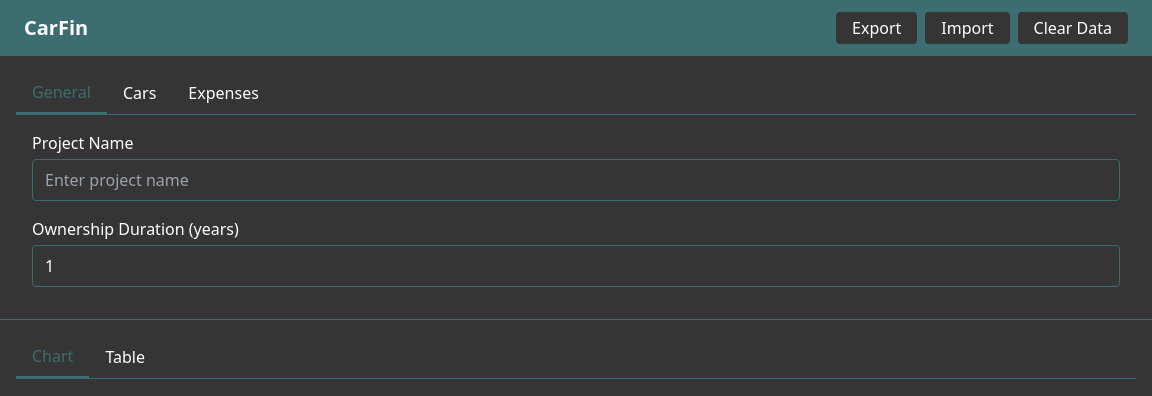
Test: typing project name updates navbar title
In the field labelled "Project Name": point(576, 180) left=32, top=159, right=1120, bottom=201, type "My Project"
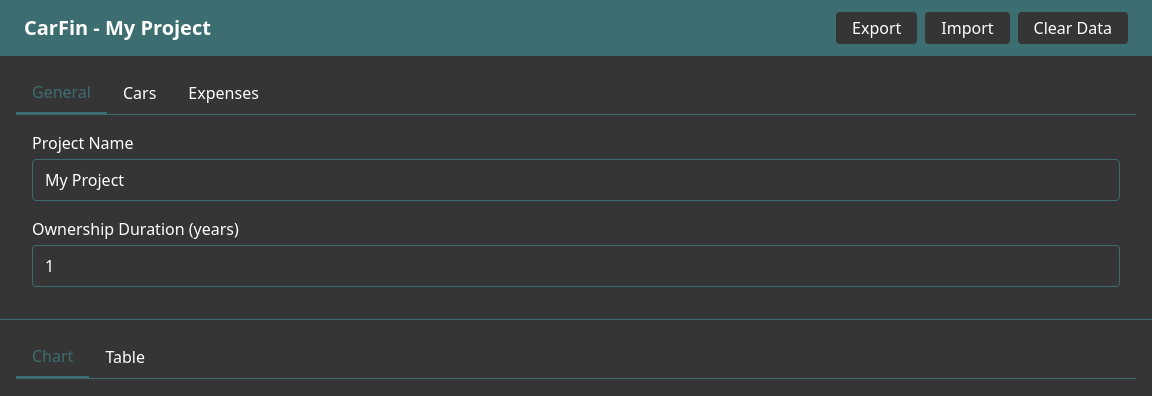
Result: the heading "CarFin - My Project" is shown at left=24, top=14, right=211, bottom=42
